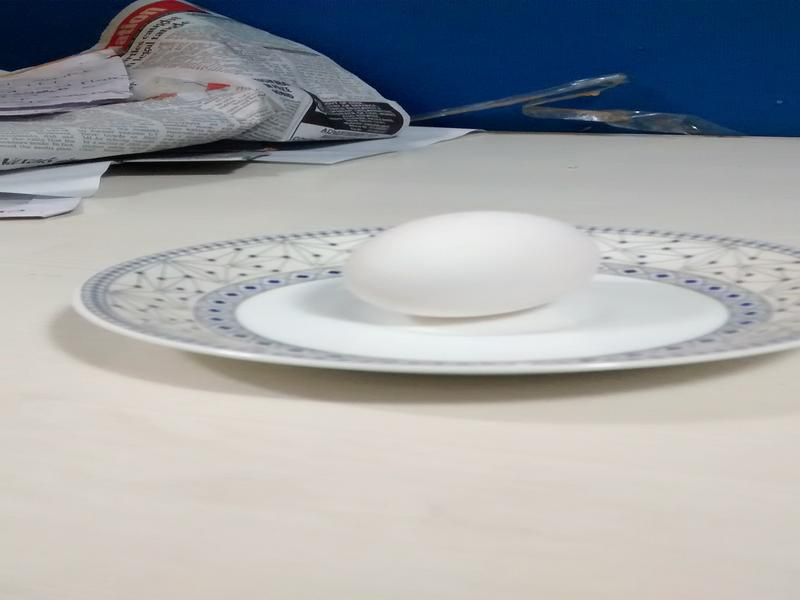egg: (338, 212, 601, 322)
